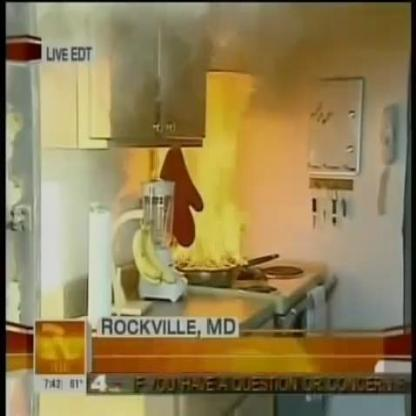fire: (158, 148, 253, 268), (207, 72, 260, 153)
